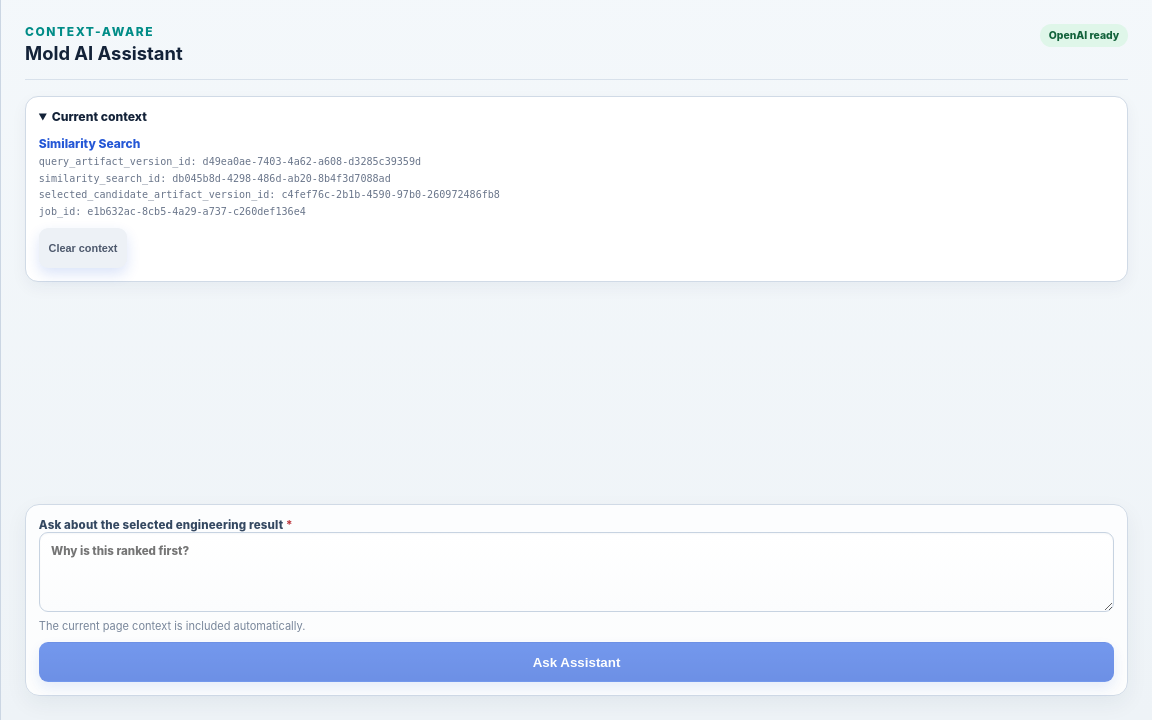
Test: AssistantPanel › shows OpenAI generation separately from a deterministic fallback
The image size is (1152, 720).
Type "Explain this result" into the text box at (576, 572), box [39,532,1114,612]
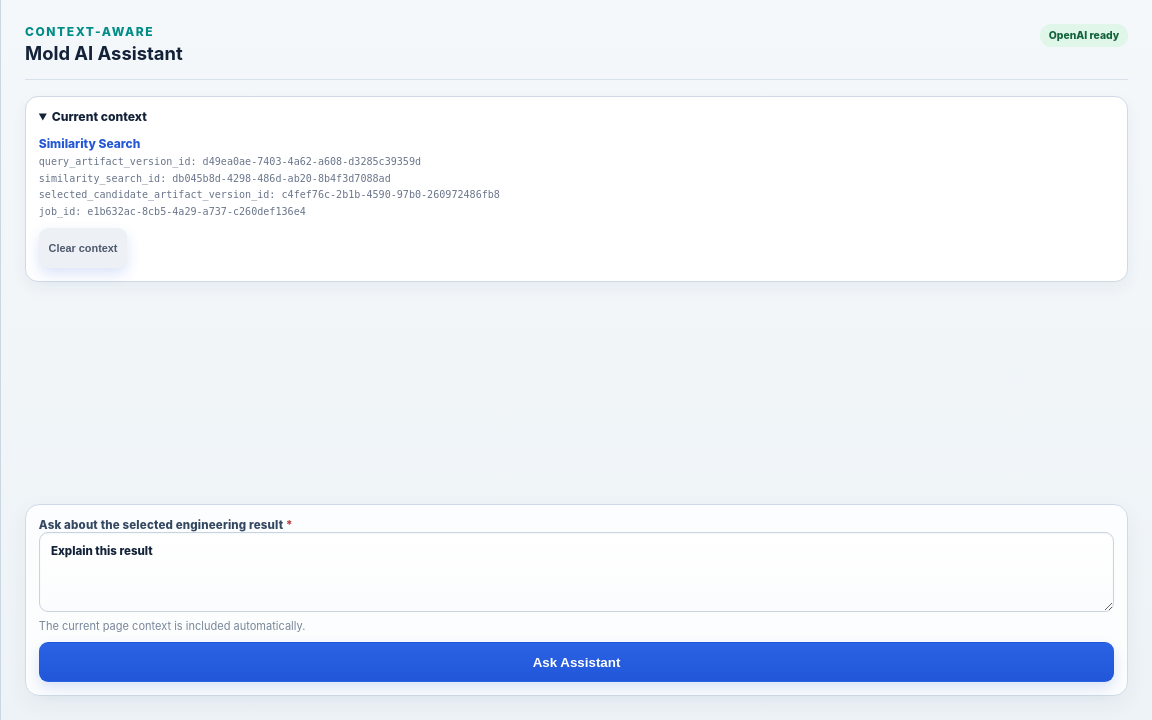
Submit the form, box [25,504,1128,696]
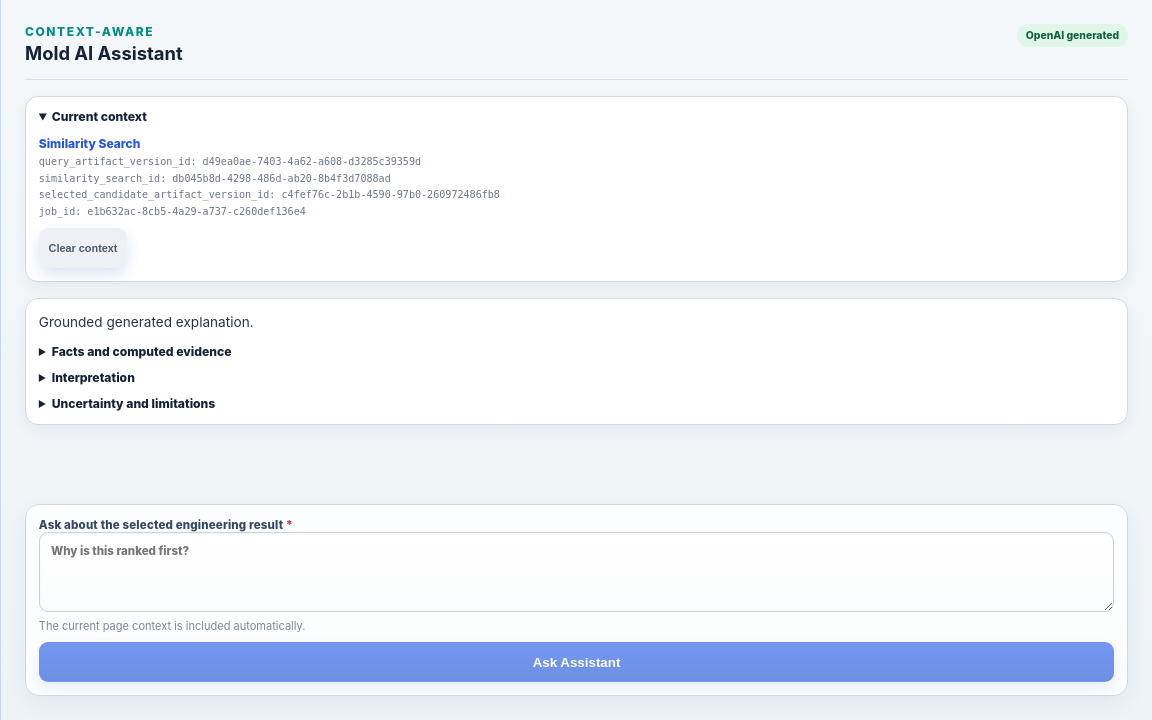
Check: the text "OpenAI generated" is shown, box [1017,24,1128,47]
